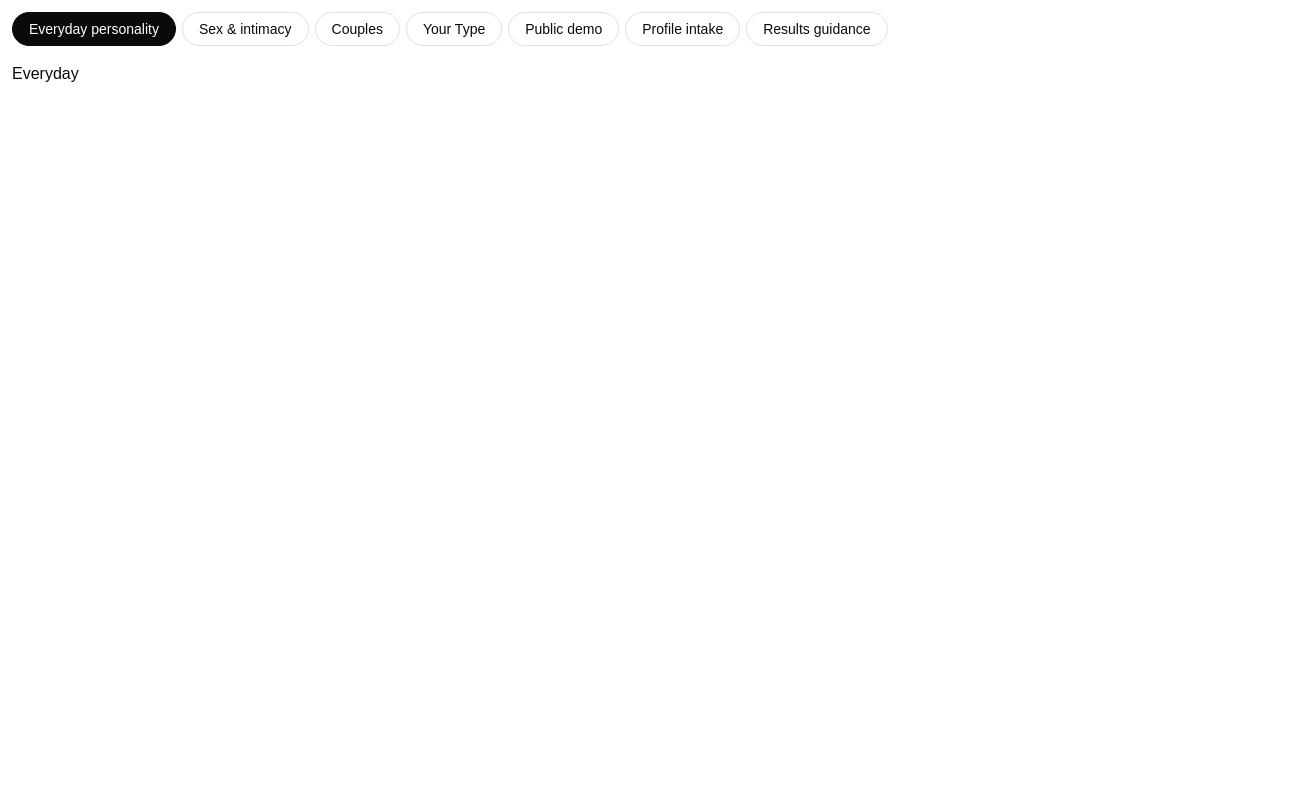
Quizzes includes Your Type and loads its edition catalog only when selected
Click the button with test id "admin-quiz-catalog-your_type": (454, 29) [406,12,502,46]
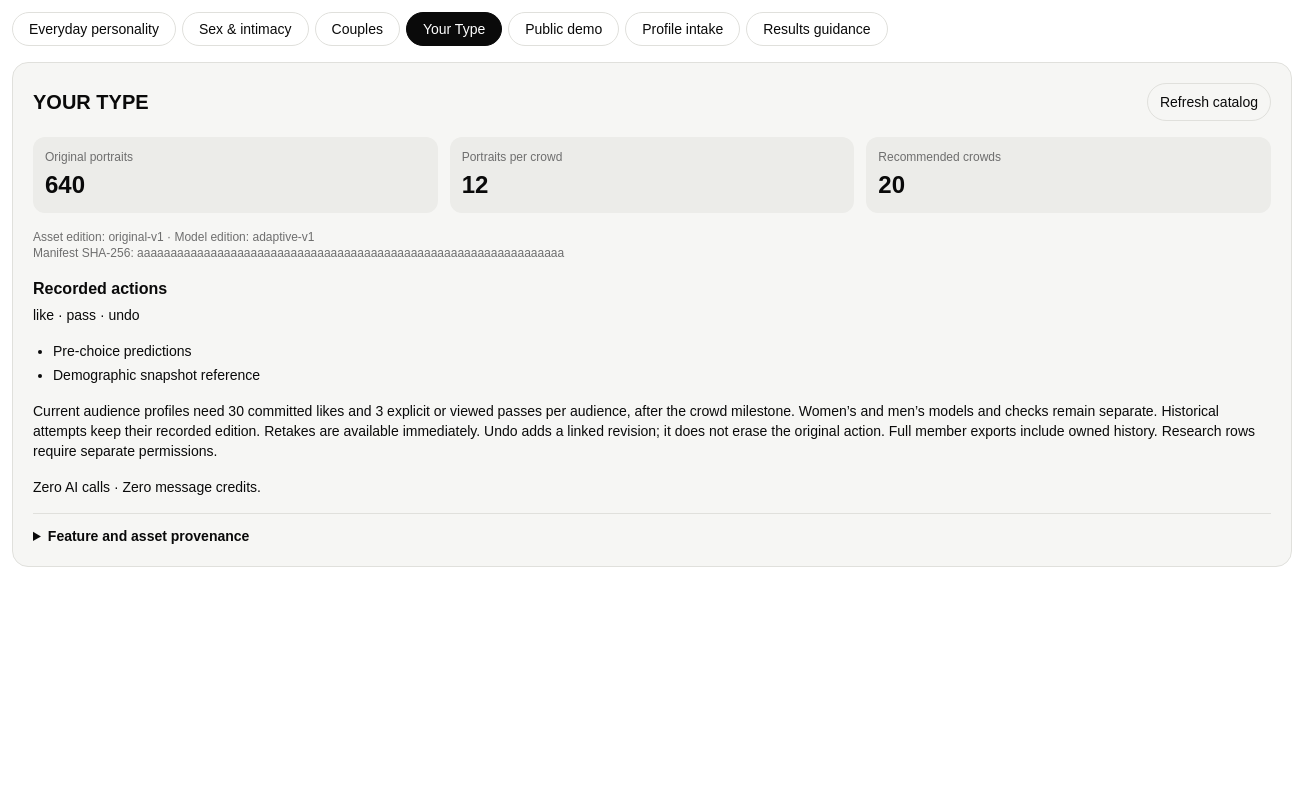
expect the text "640" is shown: met, box [45,171,85,198]
expect the text "Zero AI calls" is shown: met, box [33,479,261,495]
expect the text "original-v1" is shown: met, box [108,230,164,244]
